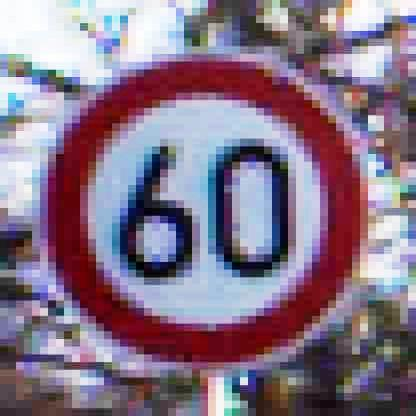Speed Limit -60-: (37, 54, 372, 375)
